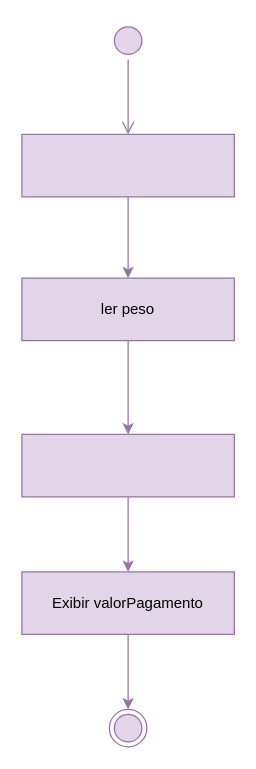
Image size: 256x769. Some labels were removed from this diagram. Each missing label, with the centre of its shape:
"Digite o peso" belongs at point (127, 165).
"valorPagamento = (peso - 0.750f) * 25" belongs at point (127, 465).
